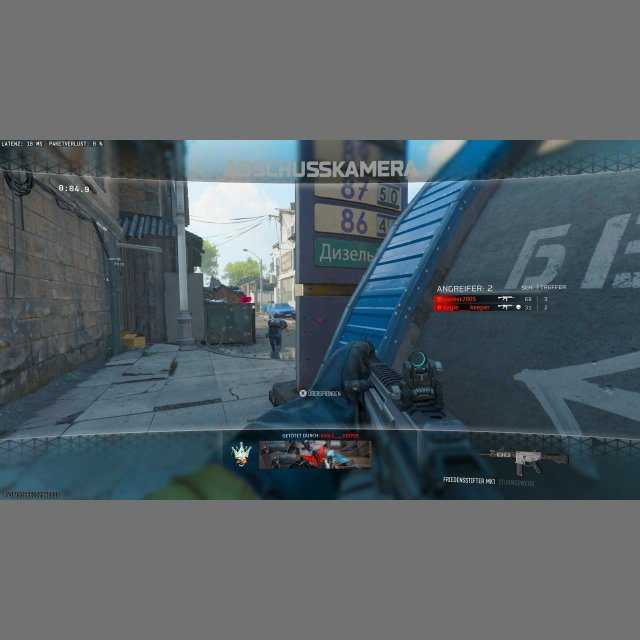player: (266, 314, 287, 358)
